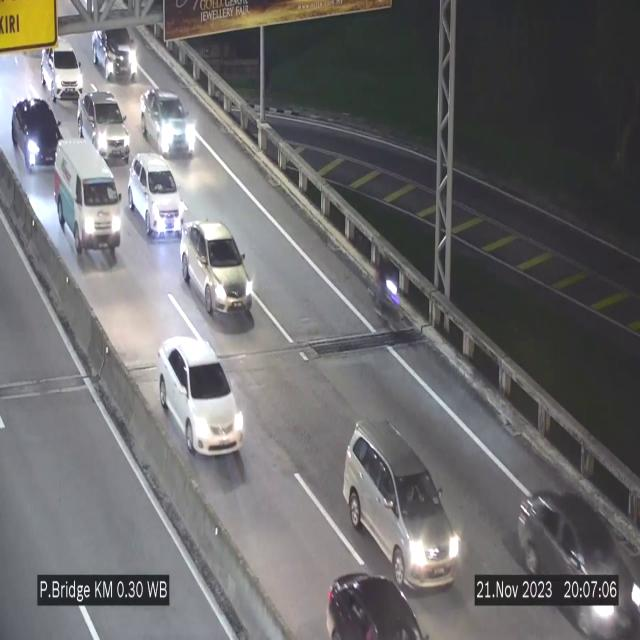Car: (340, 406, 461, 598), (513, 475, 639, 632), (158, 336, 244, 456), (316, 565, 432, 640), (55, 142, 122, 260), (180, 222, 254, 323), (128, 153, 184, 241), (93, 15, 145, 99), (10, 95, 63, 172), (76, 89, 130, 161), (141, 89, 197, 157), (41, 36, 83, 100)
Motorcycle: (371, 250, 401, 332)
